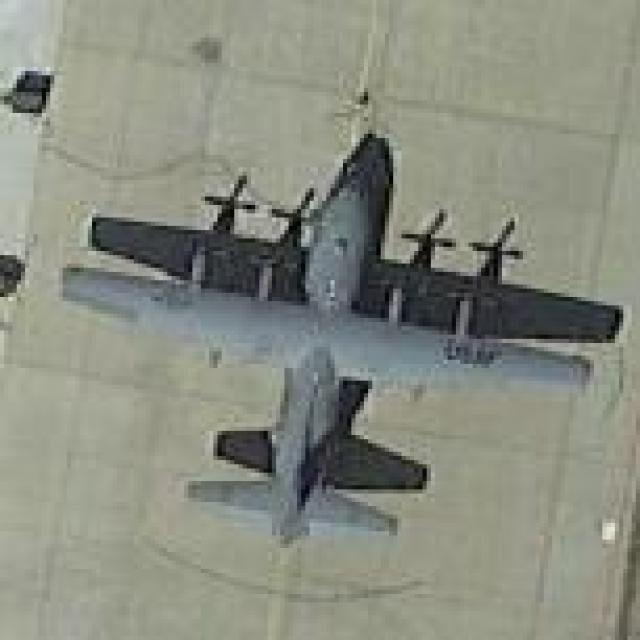C-130_TopDown: (56, 129, 630, 550)
